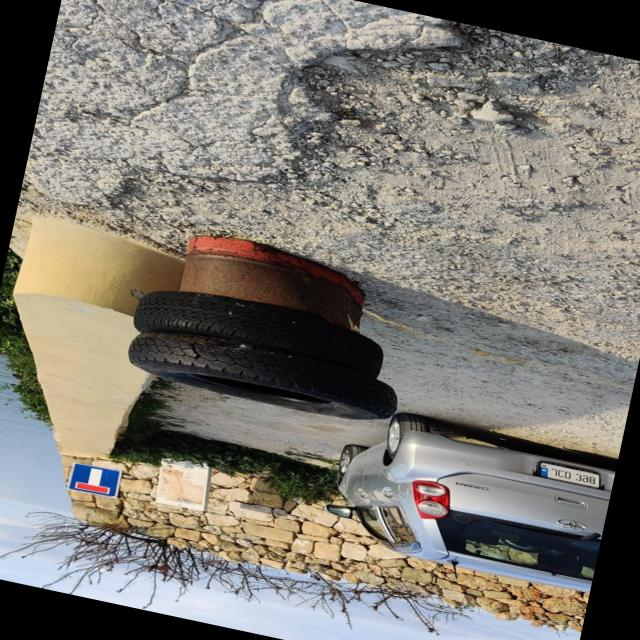Other litter: (124, 335, 398, 421), (133, 290, 382, 375), (180, 234, 365, 333)
